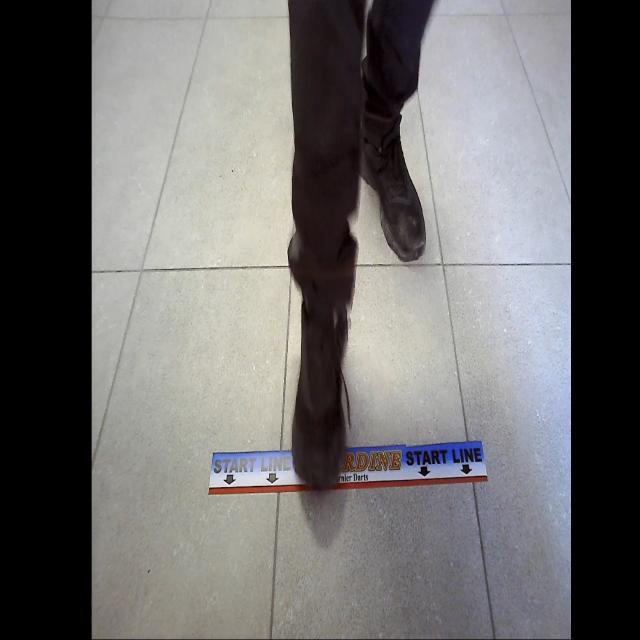foot: (355, 103, 429, 264)
